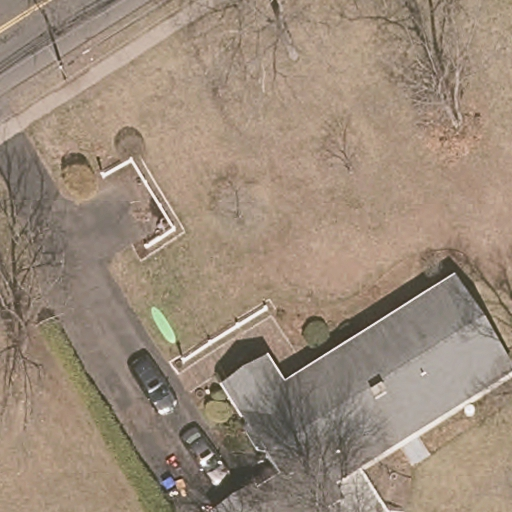DT: (44, 45, 68, 79)
